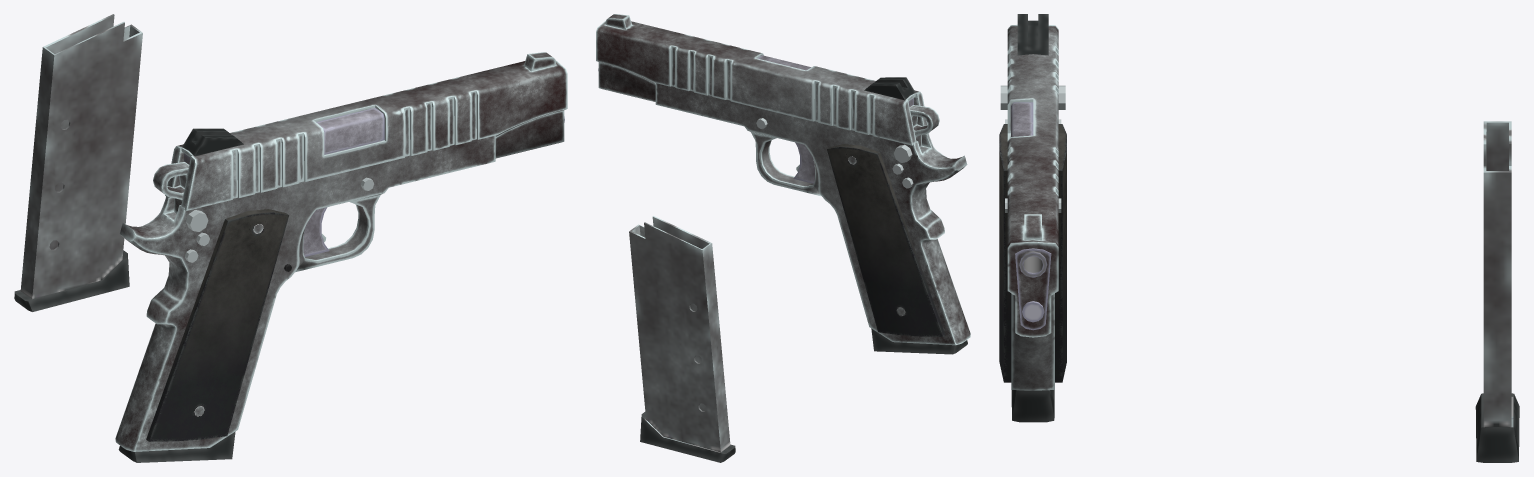
The model's file is pistol.glb.
3 renders of one model, left to right at view 1: azimuth 30°, elevation 25°; view 2: azimuth 150°, elevation 25°; view 3: azimuth 270°, elevation 25°, orthographic. The views are drawn at different scales.
Visible parts, largest first — view 1: Pistol_Frame, Pistol_Magazine, Pistol_Slide, Pistol_Slide4, Pistol_Magazine.001, Pistol_Hammer, Pistol_Trigger; view 2: Pistol_Frame, Pistol_Slide, Pistol_Magazine, Pistol_Magazine.001, Pistol_Hammer, Pistol_Trigger; view 3: Pistol_Slide, Pistol_Magazine, Pistol_Frame, Pistol_Magazine.001, Pistol_Slide4, Pistol_Barrel.
Part boxes in pixels (left/top/right/bottom): Pistol_Frame: left=115, top=135, right=495, bottom=451; Pistol_Magazine: left=14, top=14, right=142, bottom=311; Pistol_Slide: left=165, top=52, right=567, bottom=210; Pistol_Slide4: left=316, top=108, right=384, bottom=154; Pistol_Magazine.001: left=118, top=431, right=235, bottom=462; Pistol_Hammer: left=153, top=162, right=189, bottom=213; Pistol_Trigger: left=303, top=207, right=329, bottom=256; Pistol_Frame: left=655, top=83, right=970, bottom=345; Pistol_Slide: left=596, top=14, right=929, bottom=145; Pistol_Magazine: left=629, top=216, right=735, bottom=462; Pistol_Magazine.001: left=871, top=328, right=967, bottom=354; Pistol_Hammer: left=909, top=105, right=939, bottom=147; Pistol_Trigger: left=793, top=142, right=814, bottom=183; Pistol_Slide: left=1007, top=14, right=1058, bottom=337; Pistol_Magazine: left=1475, top=121, right=1519, bottom=462; Pistol_Frame: left=999, top=85, right=1066, bottom=390; Pistol_Magazine.001: left=1011, top=390, right=1054, bottom=422; Pistol_Slide4: left=1011, top=102, right=1033, bottom=136; Pistol_Barrel: left=1019, top=251, right=1047, bottom=277.
Size of the model in its own units: 0.2388 by 0.169 by 0.2027.
Materials: 1 (1 with a texture image).
